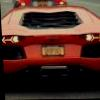License_Plate: (42, 48, 65, 55)
